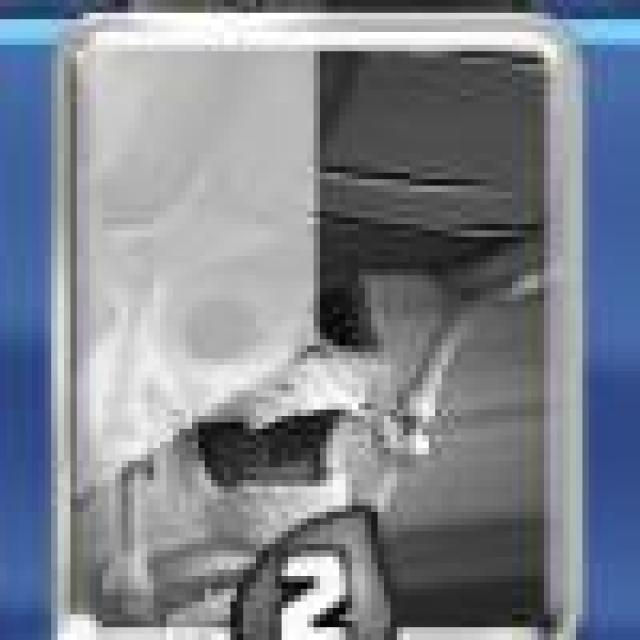Wall_Breakers: (60, 20, 586, 640)
